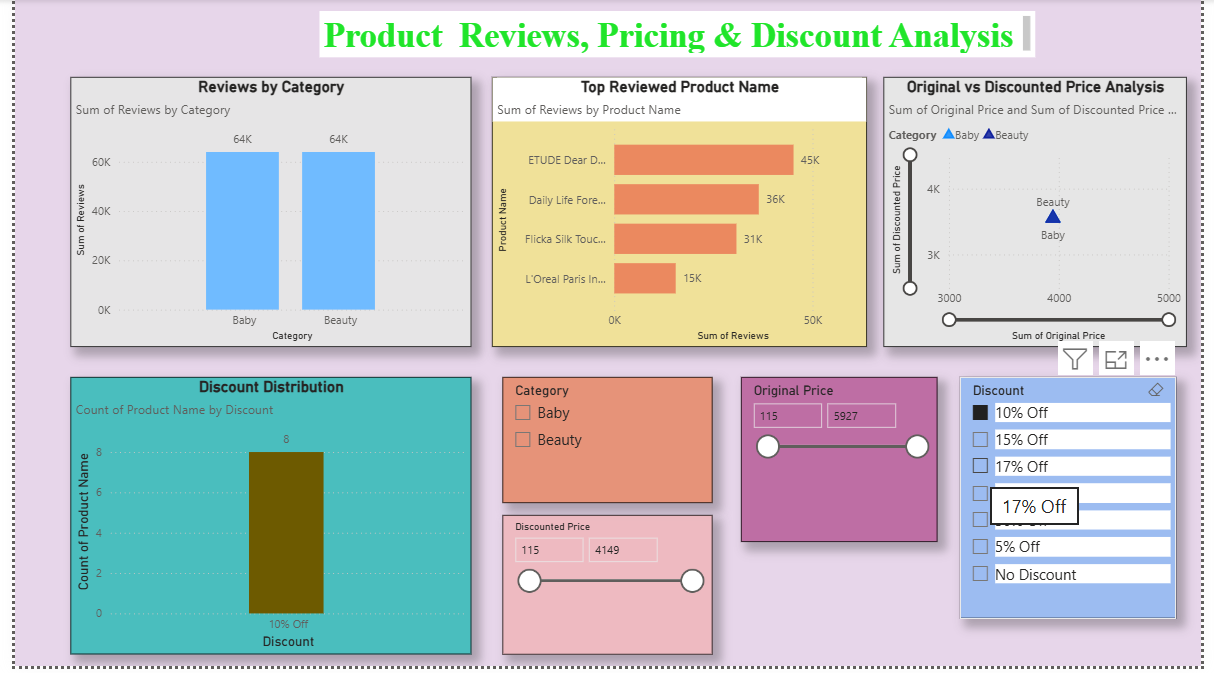

The page's visual inventory and layout, read from the dashboard file:
{"tool":"powerbi","page":{"name":"Page 2","canvas":[1280,720],"ordinal":1},"visuals":[{"type":"scatterChart","title":"Original vs Discounted Price Analysis","fields":{"X":["Sum(FINAL_DATASET_SCRAPINGcsv.Original Price)"],"Y":["Sum(FINAL_DATASET_SCRAPINGcsv.Discounted Price)"],"Series":["FINAL_DATASET_SCRAPINGcsv.Category"]},"box":[937.5,84.2,327.1,291.5],"z":0},{"type":"clusteredBarChart","title":"Top Reviewed Product Name","fields":{"Category":["FINAL_DATASET_SCRAPINGcsv.Product Name"],"Y":["Sum(FINAL_DATASET_SCRAPINGcsv.Reviews)"]},"box":[514.9,84.2,404.8,291.5],"z":1000},{"type":"clusteredColumnChart","title":"Discount Distribution","fields":{"Category":["FINAL_DATASET_SCRAPINGcsv.Discount"],"Y":["CountNonNull(FINAL_DATASET_SCRAPINGcsv.Product Name)"]},"box":[59.9,408,432.3,299.6],"z":2000},{"type":"slicer","fields":{"Values":["FINAL_DATASET_SCRAPINGcsv.Category"]},"box":[526.2,408,226.7,136],"z":3000},{"type":"clusteredColumnChart","title":"Reviews by Category ","fields":{"Category":["FINAL_DATASET_SCRAPINGcsv.Category"],"Y":["Sum(FINAL_DATASET_SCRAPINGcsv.Reviews)"]},"box":[59.9,84.2,432.3,291.5],"z":4000},{"type":"textbox","box":[328.7,13,772.4,50.2],"z":5000},{"type":"slicer","fields":{"Values":["FINAL_DATASET_SCRAPINGcsv.Discount"]},"box":[1020.1,408,233.2,260.7],"z":5001},{"type":"slicer","fields":{"Values":["FINAL_DATASET_SCRAPINGcsv.Discounted Price"]},"box":[526.2,557,226.7,150.6],"z":5002},{"type":"slicer","fields":{"Values":["FINAL_DATASET_SCRAPINGcsv.Original Price"]},"box":[783.7,408,212.1,178.1],"z":5003}]}

Visuals, with their boxes in screenshot pixels (x1, y1, x2, y2), scaled from the page's 1280x720 canvas onto the 1214x673 screenshot:
"Original vs Discounted Price Analysis" scatterChart: {"left": 889, "top": 79, "right": 1199, "bottom": 351}
"Top Reviewed Product Name" clusteredBarChart: {"left": 488, "top": 79, "right": 872, "bottom": 351}
"Discount Distribution" clusteredColumnChart: {"left": 57, "top": 381, "right": 467, "bottom": 661}
slicer - FINAL_DATASET_SCRAPINGcsv.Category: {"left": 499, "top": 381, "right": 714, "bottom": 508}
"Reviews by Category " clusteredColumnChart: {"left": 57, "top": 79, "right": 467, "bottom": 351}
textbox: {"left": 312, "top": 12, "right": 1044, "bottom": 59}
slicer - FINAL_DATASET_SCRAPINGcsv.Discount: {"left": 968, "top": 381, "right": 1189, "bottom": 625}
slicer - FINAL_DATASET_SCRAPINGcsv.Discounted Price: {"left": 499, "top": 521, "right": 714, "bottom": 661}
slicer - FINAL_DATASET_SCRAPINGcsv.Original Price: {"left": 743, "top": 381, "right": 944, "bottom": 548}
